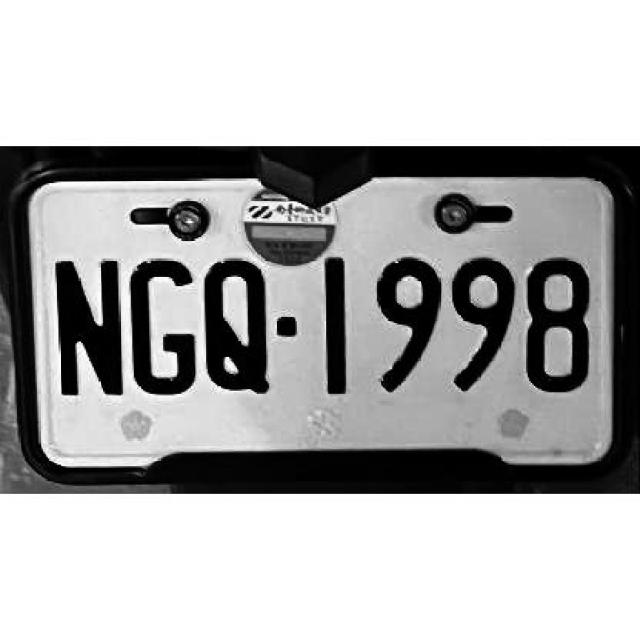-: (274, 314, 297, 337)
1: (322, 258, 346, 398)
8: (520, 251, 592, 397)
9: (372, 254, 445, 395), (446, 254, 520, 392)
G: (128, 256, 198, 398)
N: (48, 254, 124, 398)
Q: (202, 259, 272, 403)
